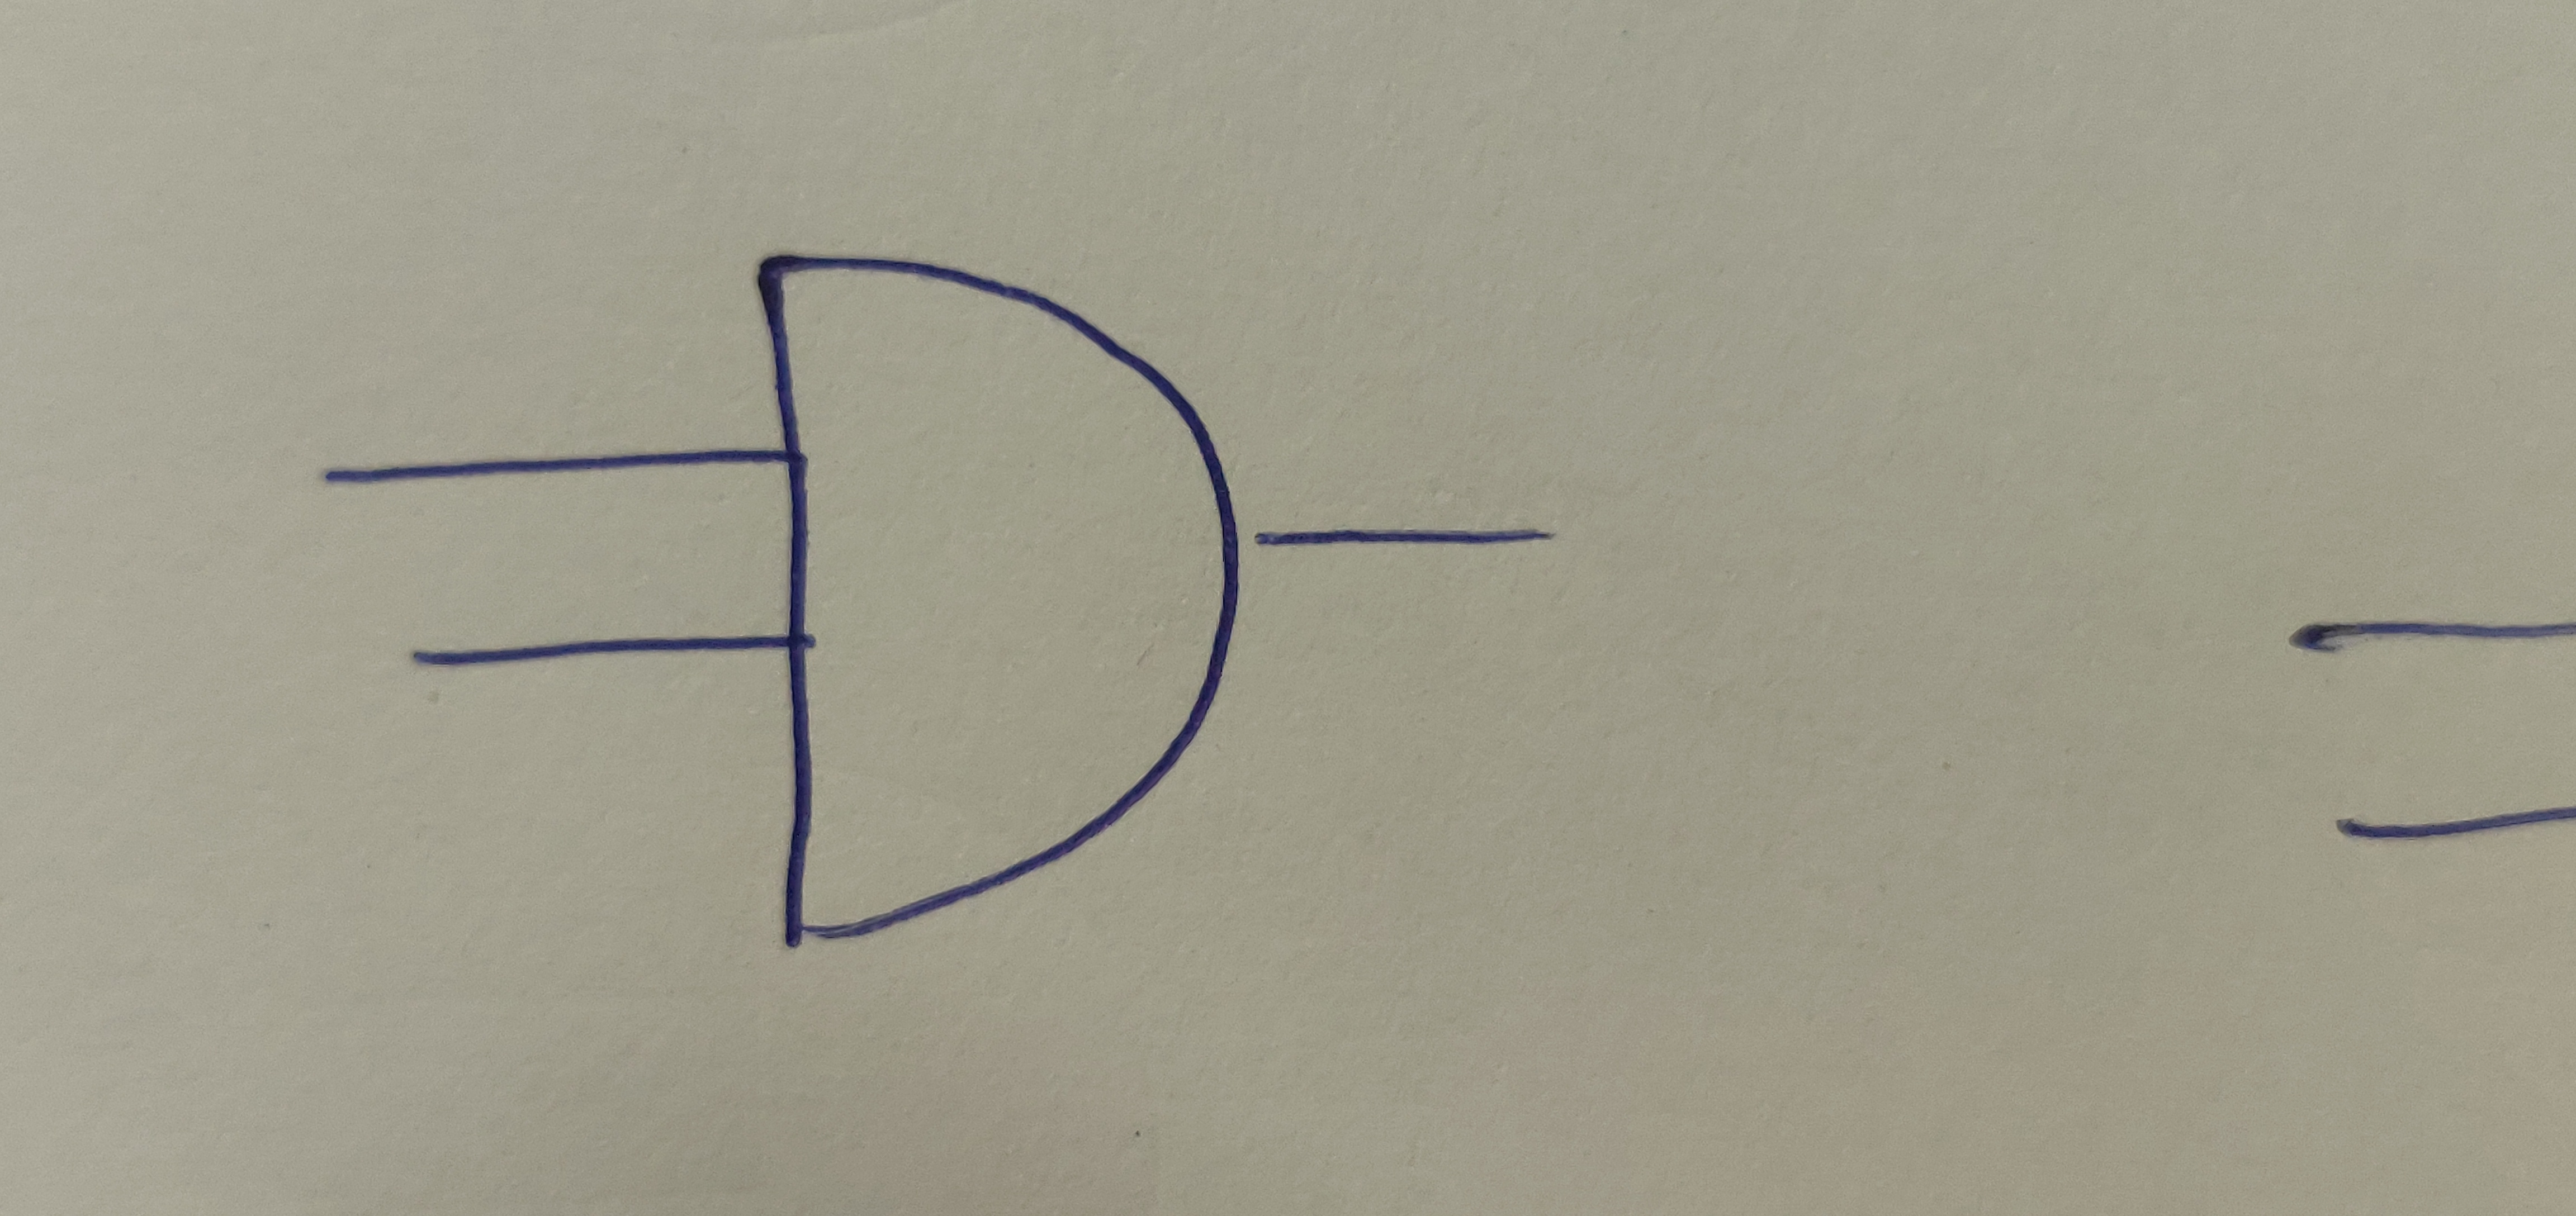and: (749, 243, 1250, 945)
